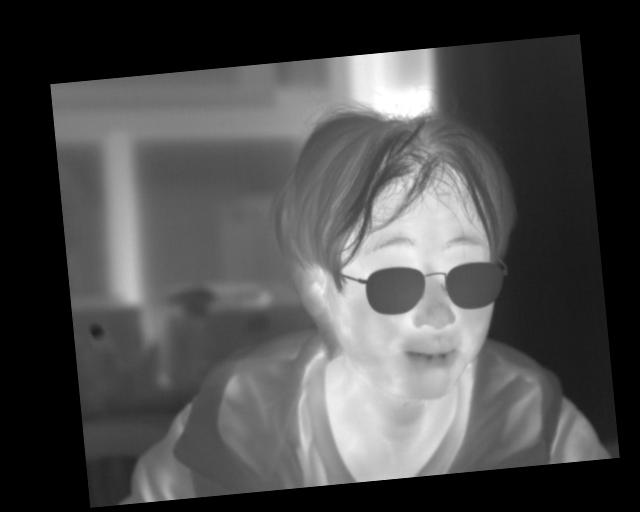face: (272, 90, 530, 416)
